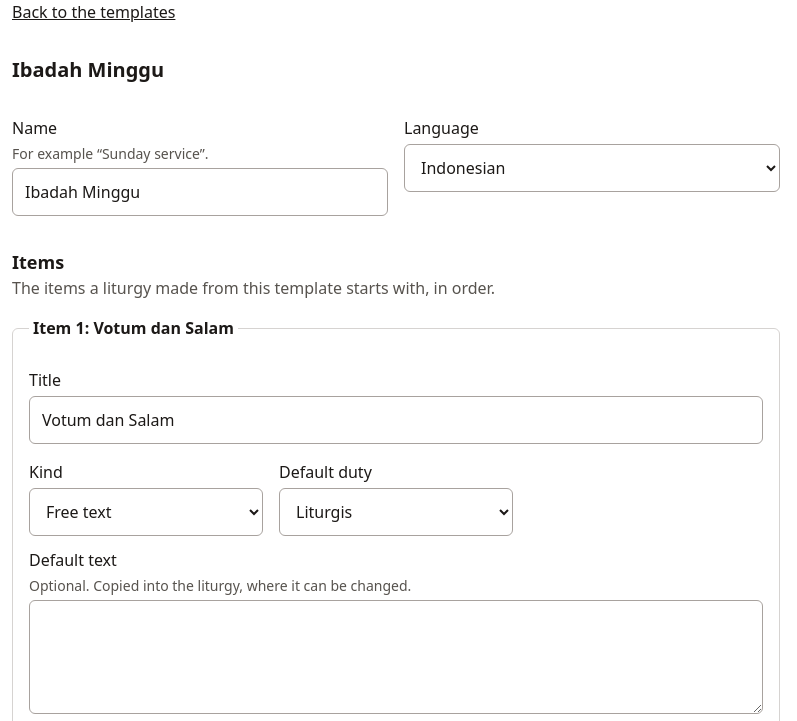
TemplateFormPage › edits with the loaded version, and keeps the input after a conflict until Reload
This screenshot has width=797, height=721.
Replace the text in the field labelled "Name" with "Nama saya" at (200, 192), box top-left (12, 168), bottom-right (388, 216)
(page scrolled)
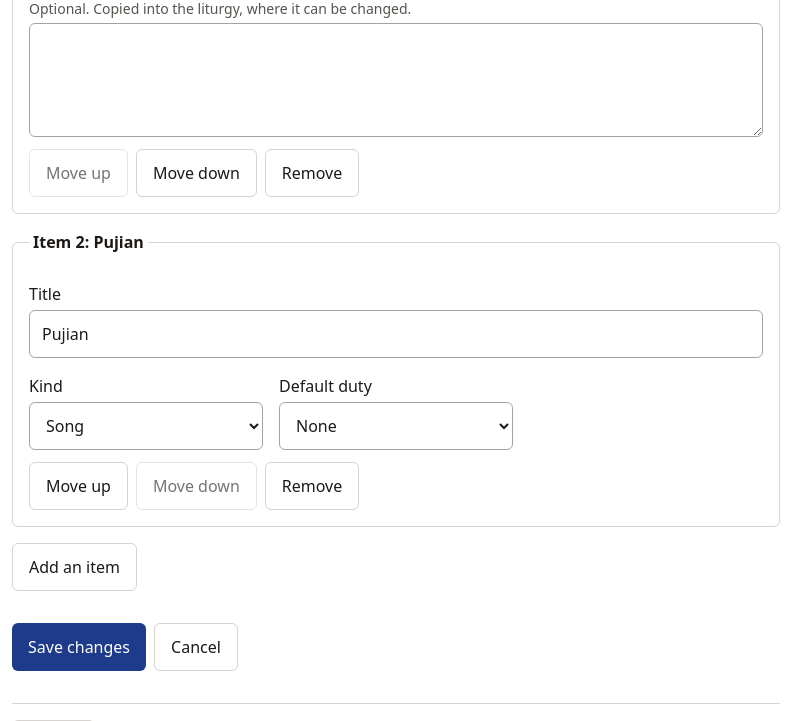
Click the button "Save changes" at (79, 647), box top-left (12, 623), bottom-right (146, 671)
(page scrolled)
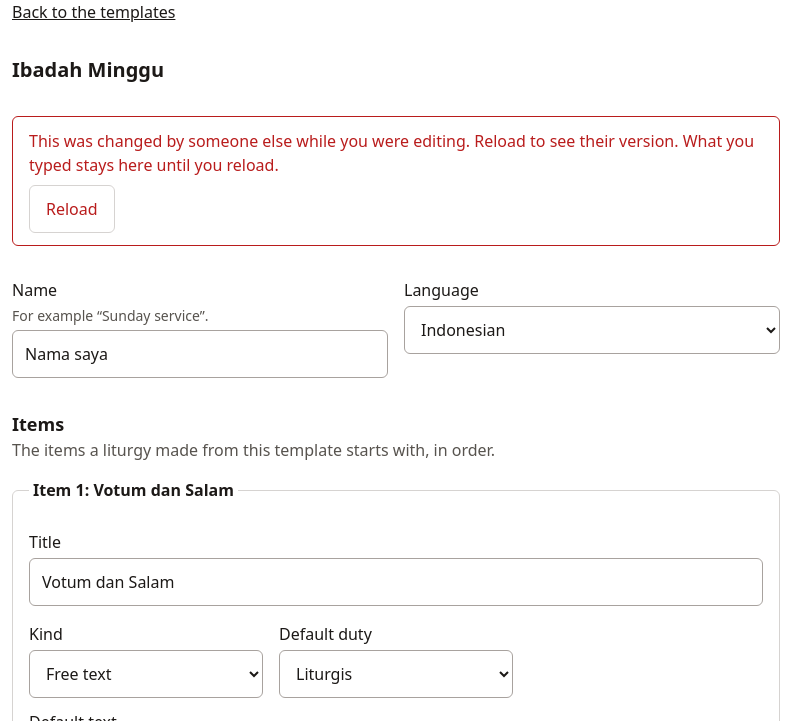
Now the text "changed by someone else while you were editing" is shown, box top-left (29, 130), bottom-right (754, 176)
Click the button "Reload" at (72, 209), box top-left (29, 185), bottom-right (115, 233)
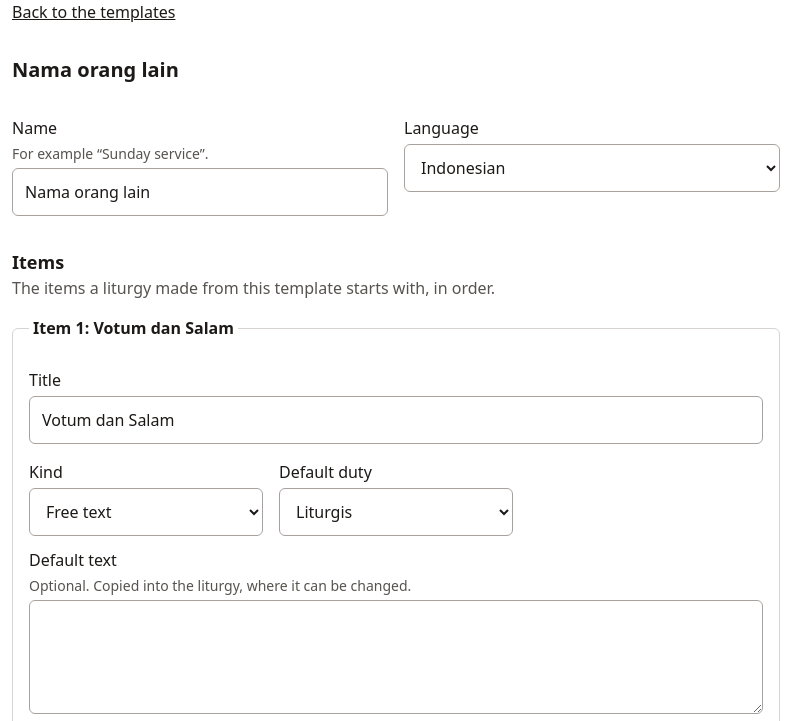
Now the field labelled "Name" holds "Nama orang lain", box top-left (12, 168), bottom-right (388, 216)
